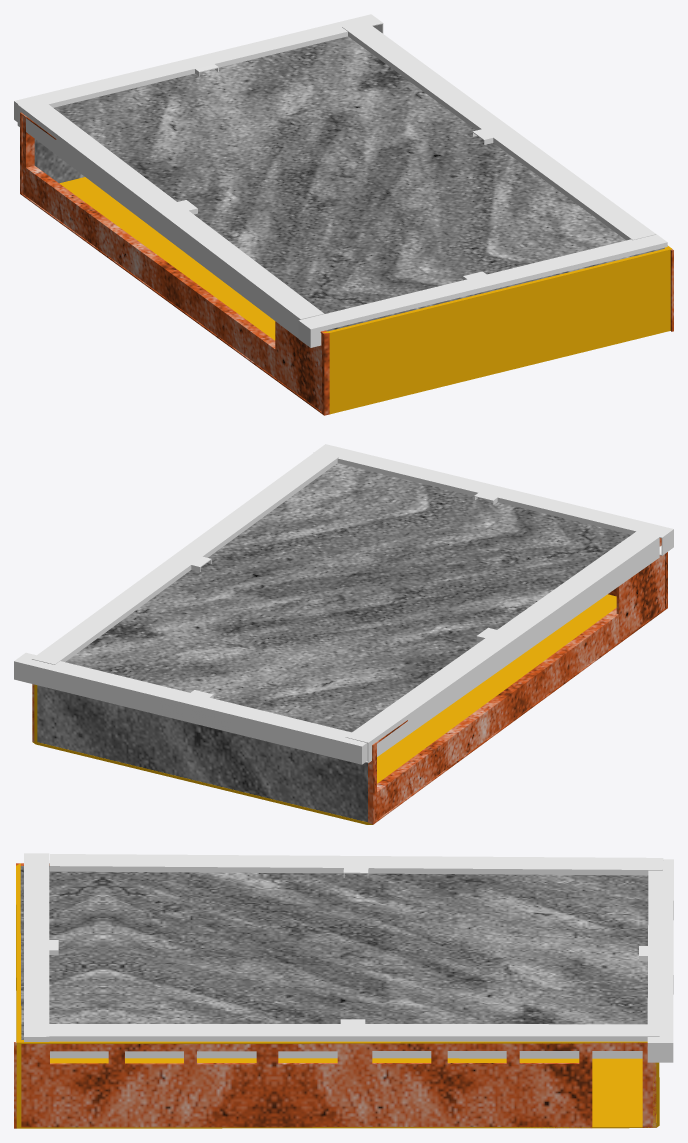
Rendered from prototypeScene.fbx.
3 views of the same model, one above another, from view 1: azimuth 30°, elevation 25°; view 2: azimuth 150°, elevation 25°; view 3: azimuth 270°, elevation 25° (orthographic). The views are drawn at different scales.
Visible parts, largest first — view 1: environmentDF, vent_test_01__1_, vent_test_01__2_, vent_test_02, vent_test_02__2_; view 2: environmentDF, vent_test_01__1_, vent_test_02__2_, vent_test_01__2_, vent_test_02; view 3: environmentDF, vent_test_01__2_, vent_test_01__1_, vent_test_02__2_, vent_test_02.
Part boxes in pixels (x1,y1,x2,y2): environmentDF: (20,36,673,415); vent_test_01__1_: (17,99,324,338); vent_test_01__2_: (342,21,656,240); vent_test_02: (298,234,667,347); vent_test_02__2_: (14,14,383,121); environmentDF: (32,463,667,824); vent_test_01__1_: (345,531,659,763); vent_test_02__2_: (14,652,367,764); vent_test_01__2_: (32,451,338,664); vent_test_02: (314,444,673,555); environmentDF: (14,863,659,1128); vent_test_01__2_: (46,1019,659,1058); vent_test_01__1_: (49,854,663,877); vent_test_02__2_: (639,859,673,1062); vent_test_02: (24,853,58,1041).
Bounding box in the file's own units: 453717 × 101908 × 667419.
